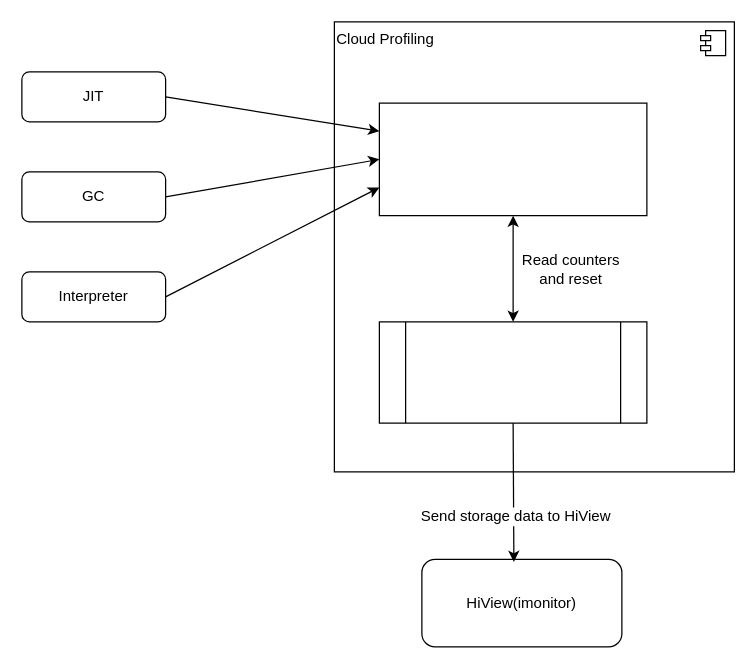
This 756x669 diagram has some shape labels left out. Each missing label, with the centre of its shape:
Storage Counter1 32 Counter2 124124 Counter3 54362323 .....: point (512, 159)
Thread Aims to push storage to HiView: point (512, 372)
